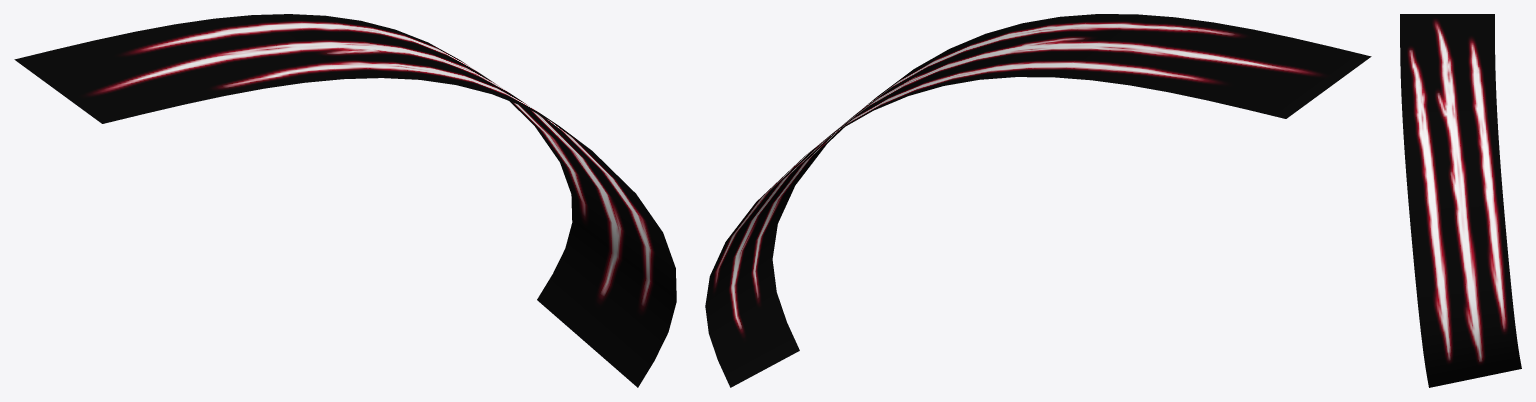
File: xiongmian.FBX
3 views of the same model, side by side, from view 1: azimuth 30°, elevation 25°; view 2: azimuth 150°, elevation 25°; view 3: azimuth 270°, elevation 25° (orthographic). The views are drawn at different scales.
Parts seen in each view (by area): view 1: xiongmian; view 2: xiongmian; view 3: xiongmian.
Boxes of the visible parts, bbox=[...] form: xiongmian: bbox=[14, 14, 676, 387]; xiongmian: bbox=[705, 14, 1371, 387]; xiongmian: bbox=[1400, 14, 1521, 387].
Bounding box in the file's own units: 390 × 263 × 128.
